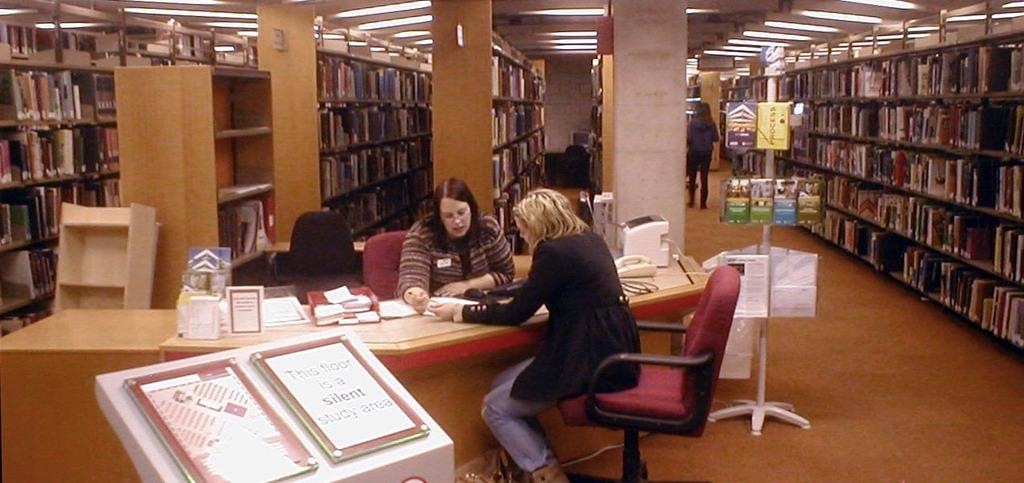Chair: (556, 264, 741, 482)
